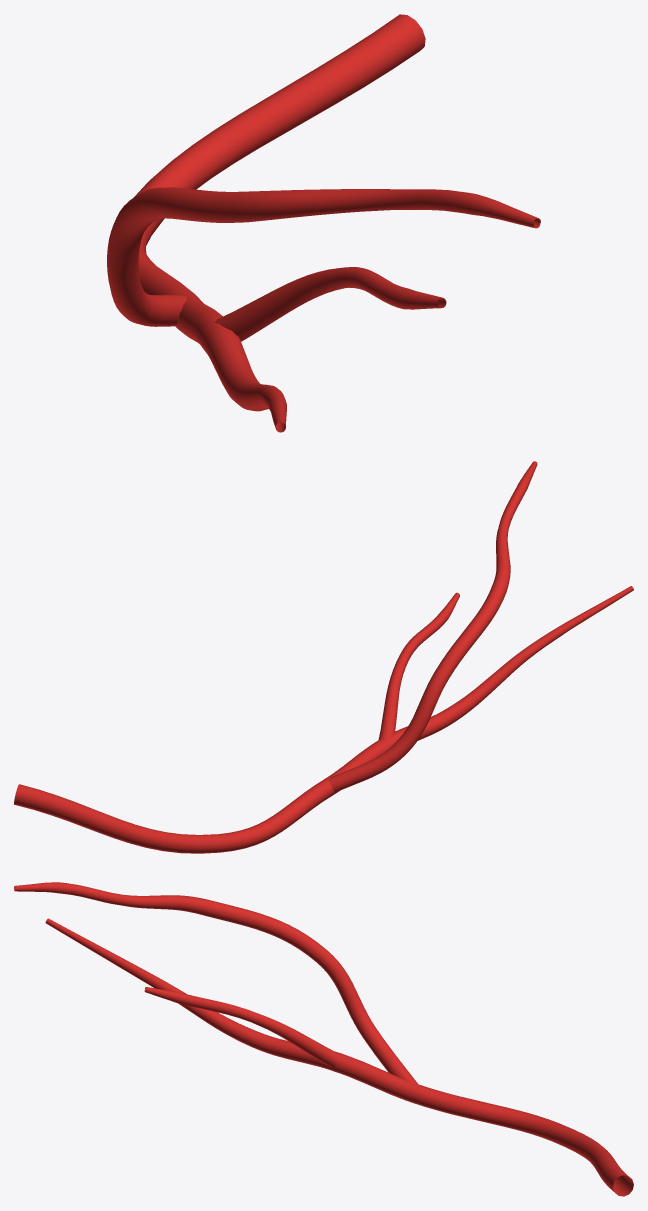
File: circulatorio-long-posterior-ciliary-arteries-r.glb
3 views of the same model, one above another, from view 1: azimuth 30°, elevation 25°; view 2: azimuth 150°, elevation 25°; view 3: azimuth 270°, elevation 25° (orthographic). The views are drawn at different scales.
Parts seen in each view (by area): view 1: Long posterior ciliary arteries.r; view 2: Long posterior ciliary arteries.r; view 3: Long posterior ciliary arteries.r.
Part boxes in pixels (x1=…): Long posterior ciliary arteries.r: x1=107, y1=14, x2=540, y2=432; Long posterior ciliary arteries.r: x1=14, y1=461, x2=633, y2=853; Long posterior ciliary arteries.r: x1=14, y1=882, x2=633, y2=1196.
Bounding box in the file's own units: 0.015 × 0.00896 × 0.0223.
